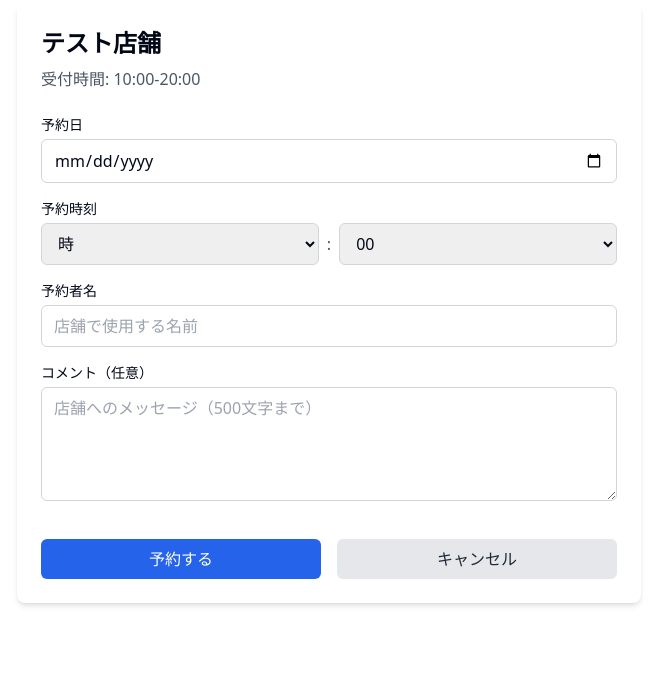
Test: ReservationForm › should display business validation error for time outside reservation hours
Type "2025-12-25" into the date field labelled "予約日" at (329, 161), box [41, 139, 617, 183]
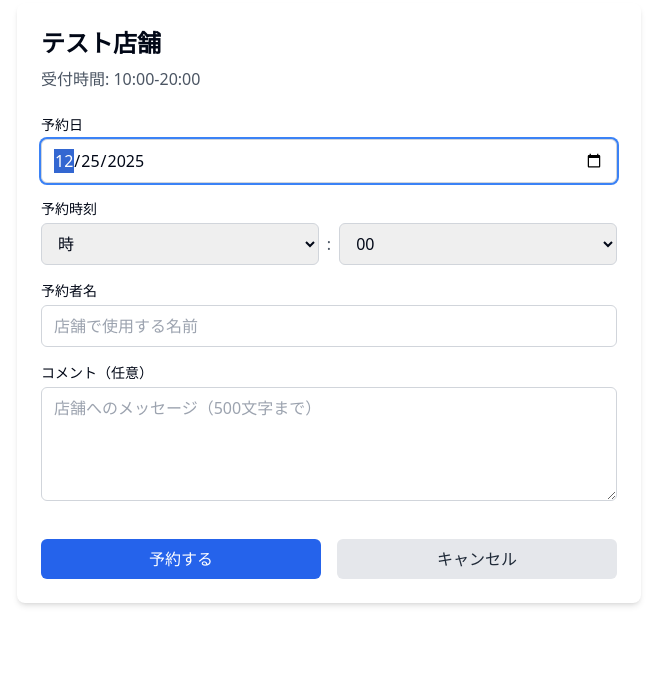
Select "20" in the dropdown named "時" at (180, 244), box [41, 223, 319, 265]
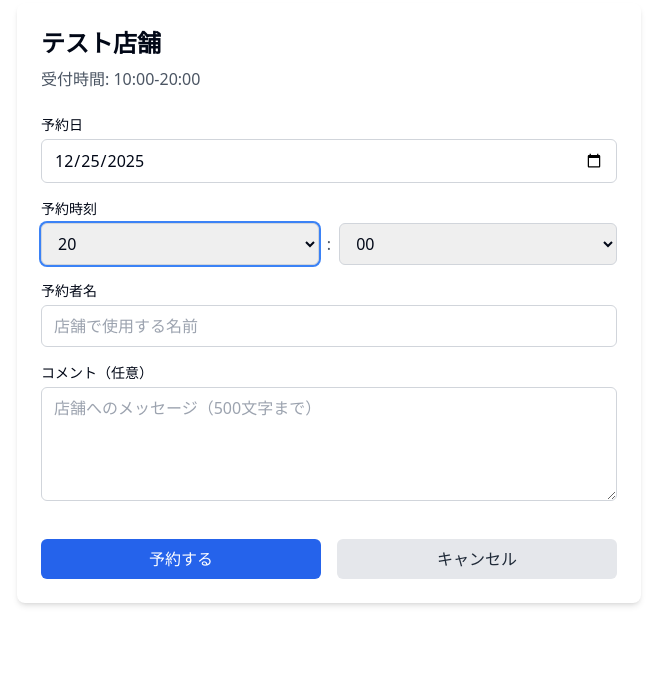
Select "30" in the dropdown named "分" at (478, 244), box [339, 223, 617, 265]
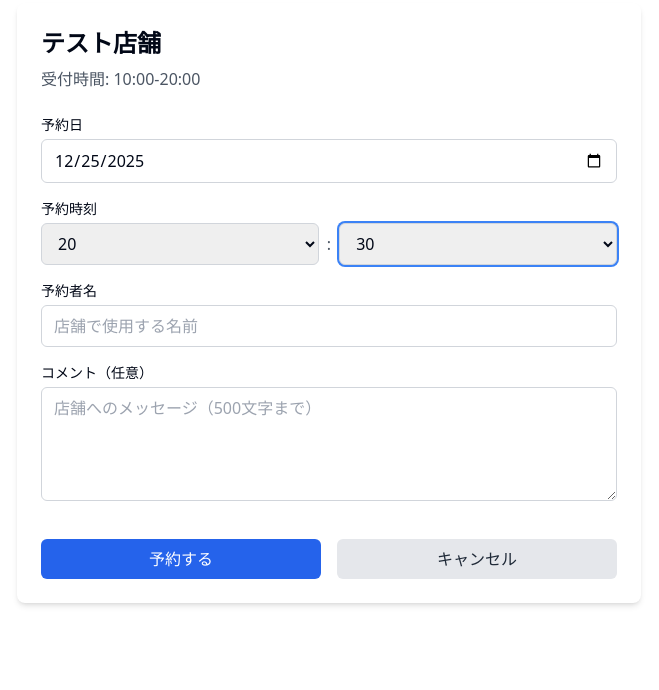
Type "テストユーザー" into the field labelled "予約者名" at (329, 326), box [41, 305, 617, 347]
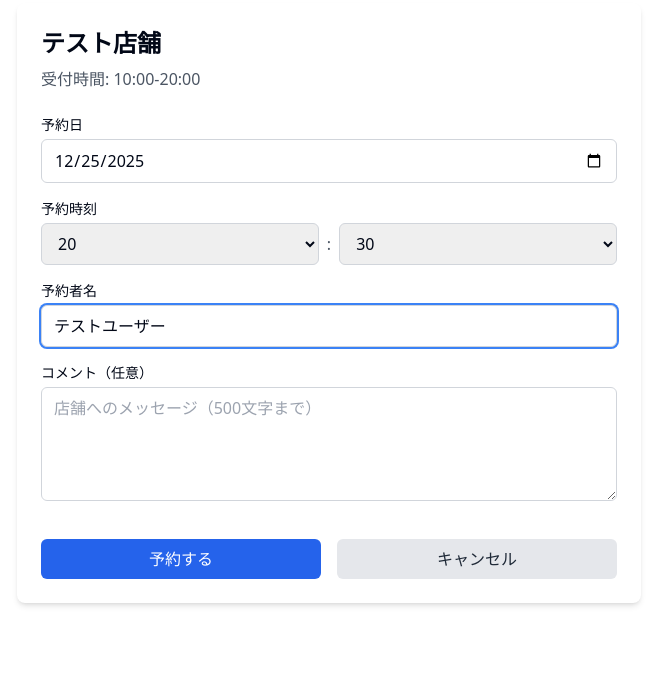
Click the button "予約する" at (181, 559), box [41, 539, 321, 579]
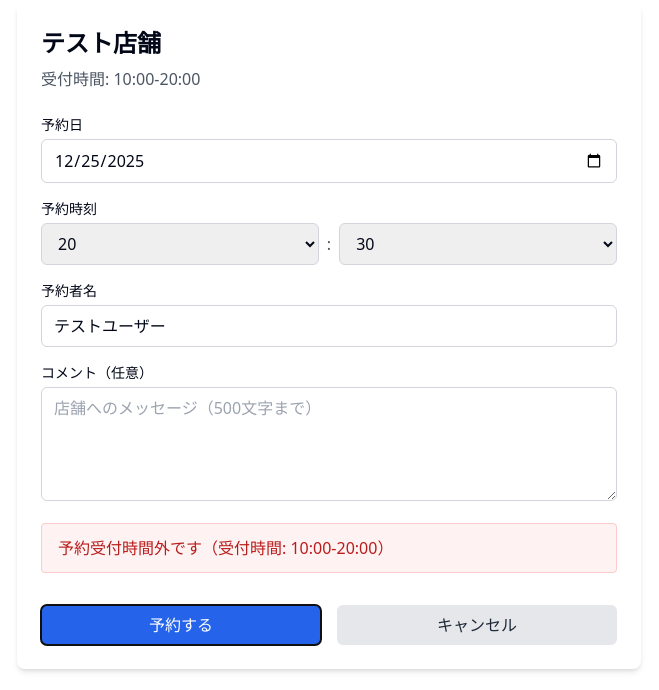
Now the text "予約受付時間外です（受付時間: 10:00-20:00）" is shown, box [41, 523, 617, 573]
